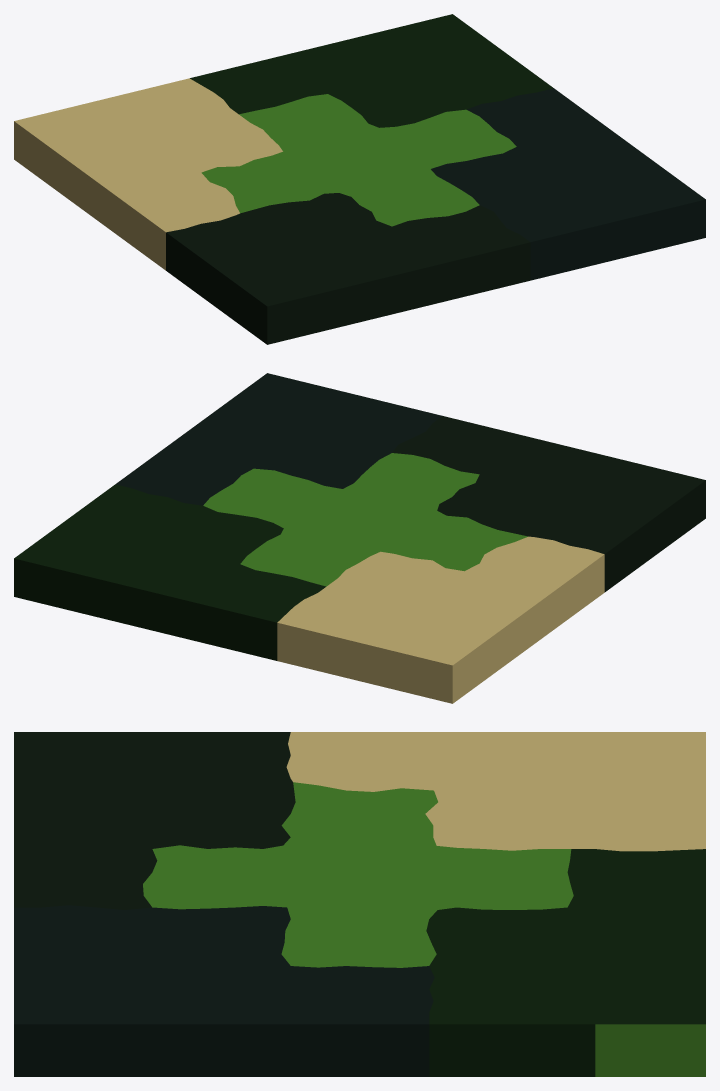
3 views of the same model, one above another, from view 1: azimuth 30°, elevation 25°; view 2: azimuth 150°, elevation 25°; view 3: azimuth 270°, elevation 25° (orthographic). The views are drawn at different scales.
Parts seen in each view (by area): view 1: Object; view 2: Object; view 3: Object.
Part boxes in pixels (bbox=[...]): Object: bbox=[14, 14, 705, 344]; Object: bbox=[14, 373, 705, 703]; Object: bbox=[14, 732, 705, 1076].
Bounding box in the file's own units: 8750 × 732 × 8750.
